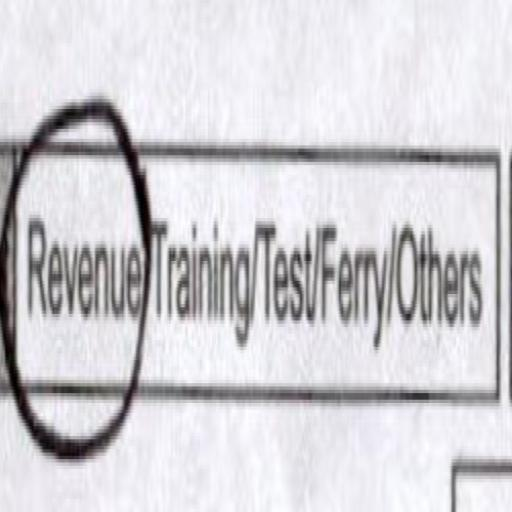check: (12, 78, 148, 436)
